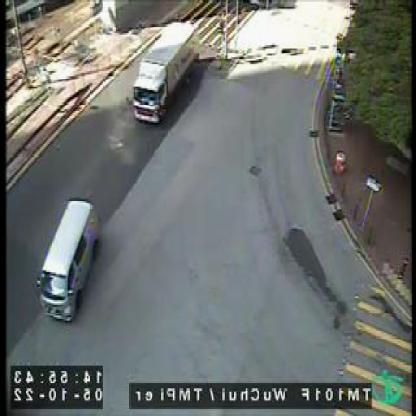Bus: (40, 198, 96, 317)
Truck: (135, 21, 203, 121)
